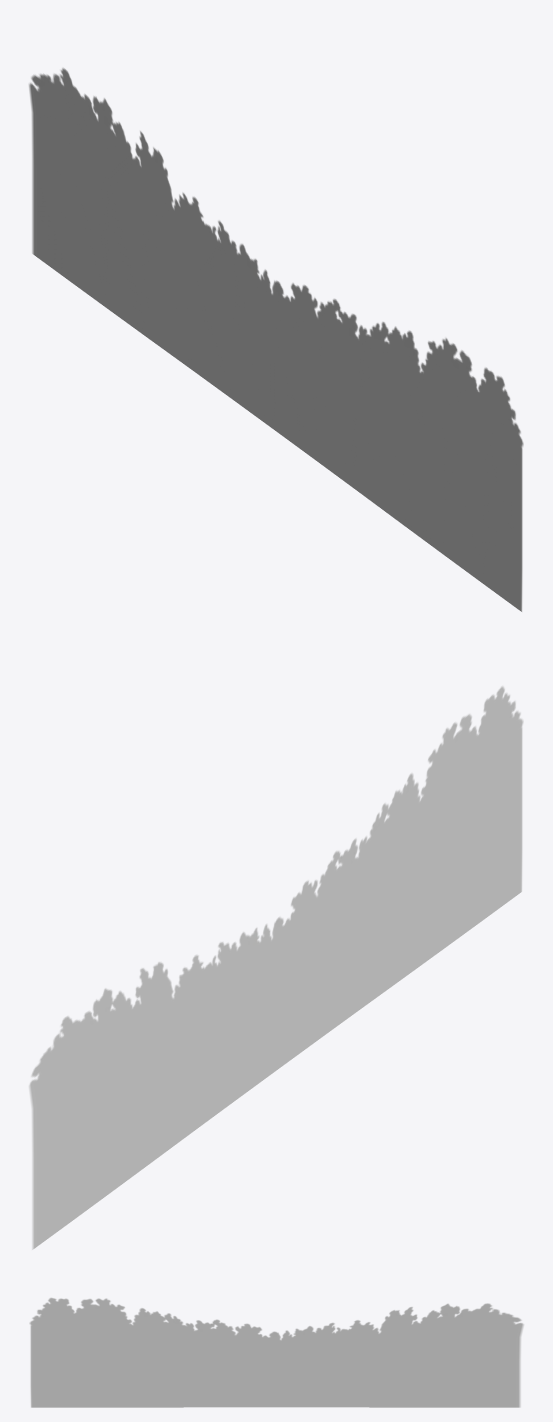
3 views of the same model, one above another, from view 1: azimuth 30°, elevation 25°; view 2: azimuth 150°, elevation 25°; view 3: azimuth 270°, elevation 25° (orthographic). The views are drawn at different scales.
Visible parts, largest first — view 1: body0_model0_lod0_mesh0; view 2: body0_model0_lod0_mesh0; view 3: body0_model0_lod0_mesh0.
Boxes of the visible parts, bbox=[...] form: body0_model0_lod0_mesh0: bbox=[29, 68, 523, 611]; body0_model0_lod0_mesh0: bbox=[29, 686, 523, 1249]; body0_model0_lod0_mesh0: bbox=[29, 1297, 523, 1407].
Bounding box in the file's own units: 0 × 124 × 512.
Materials: 1 (1 with a texture image).
